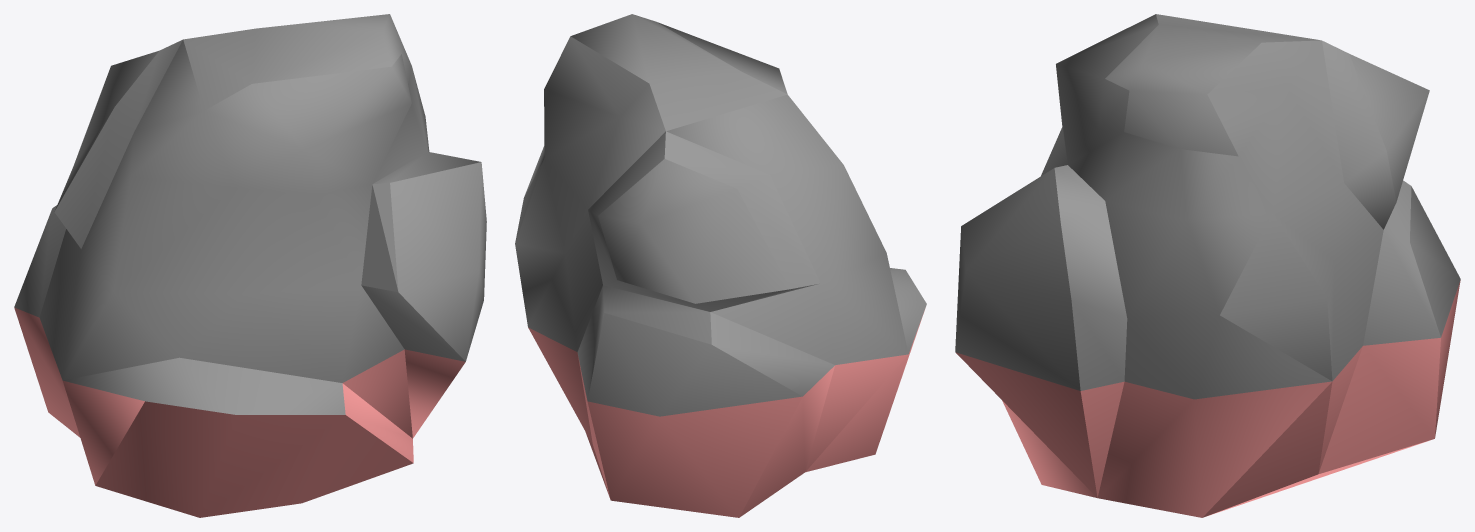
File: deco_oren_stone011.gltf
3 renders of one model, left to right at view 1: azimuth 30°, elevation 25°; view 2: azimuth 150°, elevation 25°; view 3: azimuth 270°, elevation 25°, orthographic. The views are drawn at different scales.
Visible parts, largest first — view 1: deco_oren_stone011; view 2: deco_oren_stone011; view 3: deco_oren_stone011.
Part boxes in pixels (x1,y1,x2,y2): deco_oren_stone011: [14, 14, 486, 517]; deco_oren_stone011: [515, 14, 926, 517]; deco_oren_stone011: [955, 14, 1460, 517].
Size of the model in its own units: 0.602 by 0.5989 by 0.618.
